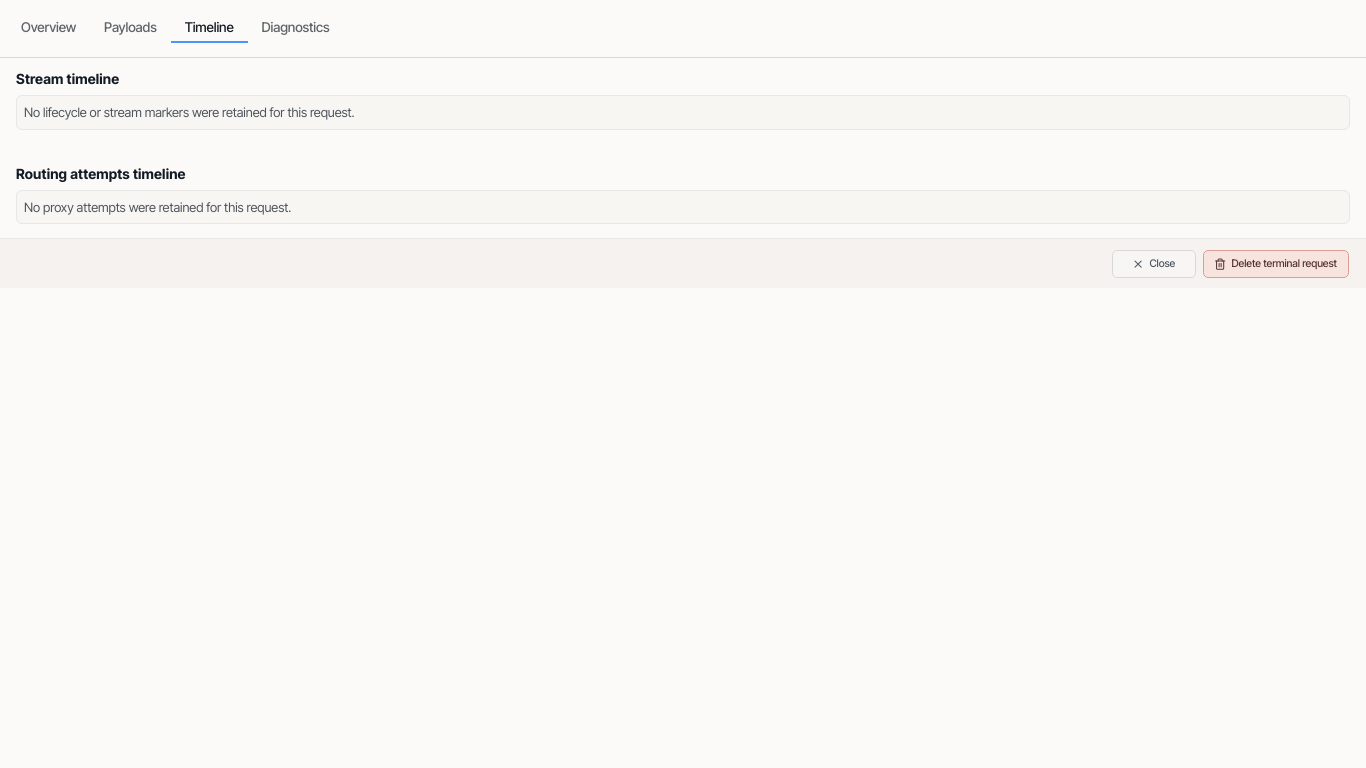
Test: Request Inspector footer › opens the existing audited deletion confirmation from the footer
Click the button "Delete terminal request" at point(1276, 264), box [1203, 250, 1348, 278]
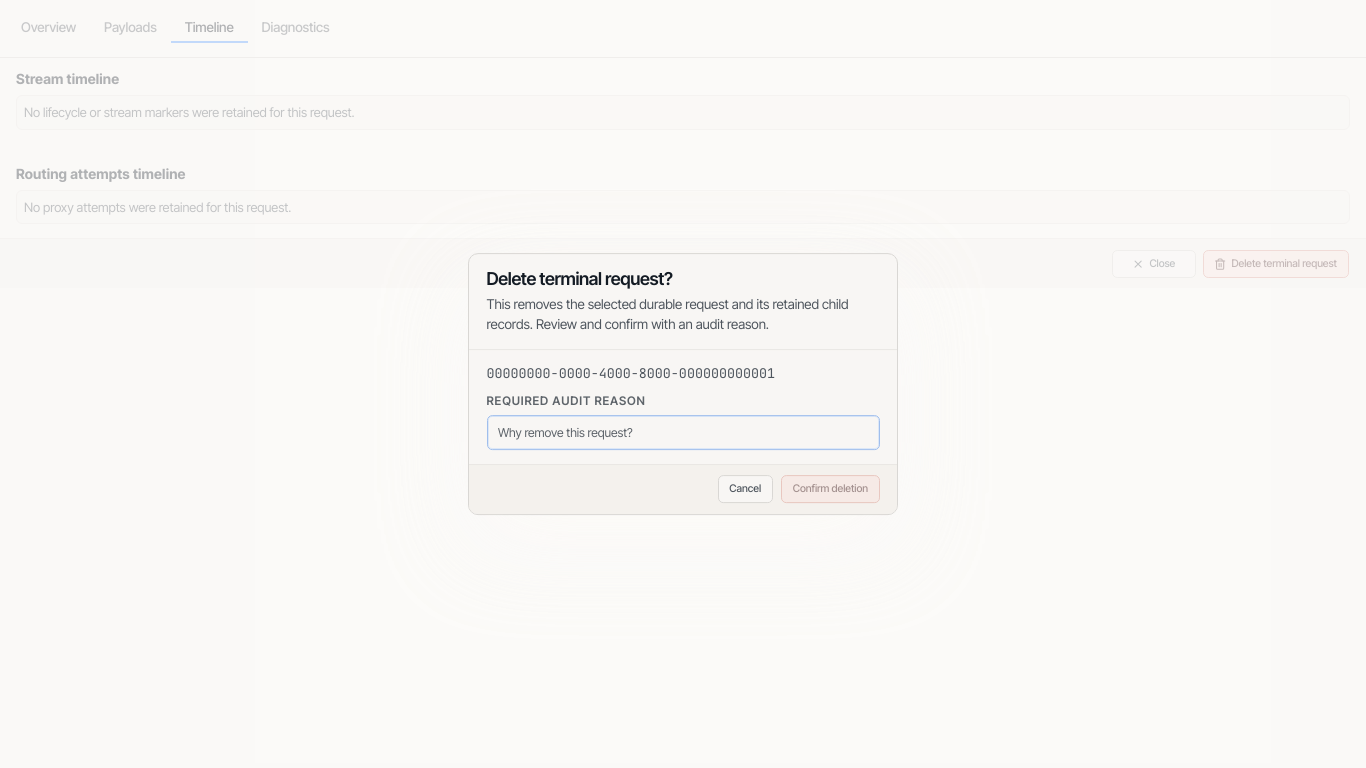
Now the dialog "Delete terminal request?" is shown, box [468, 253, 898, 515]
Now the text "Required audit reason" is shown, box [486, 394, 646, 408]
Now the button "Confirm deletion" is disabled, box [781, 475, 880, 503]
